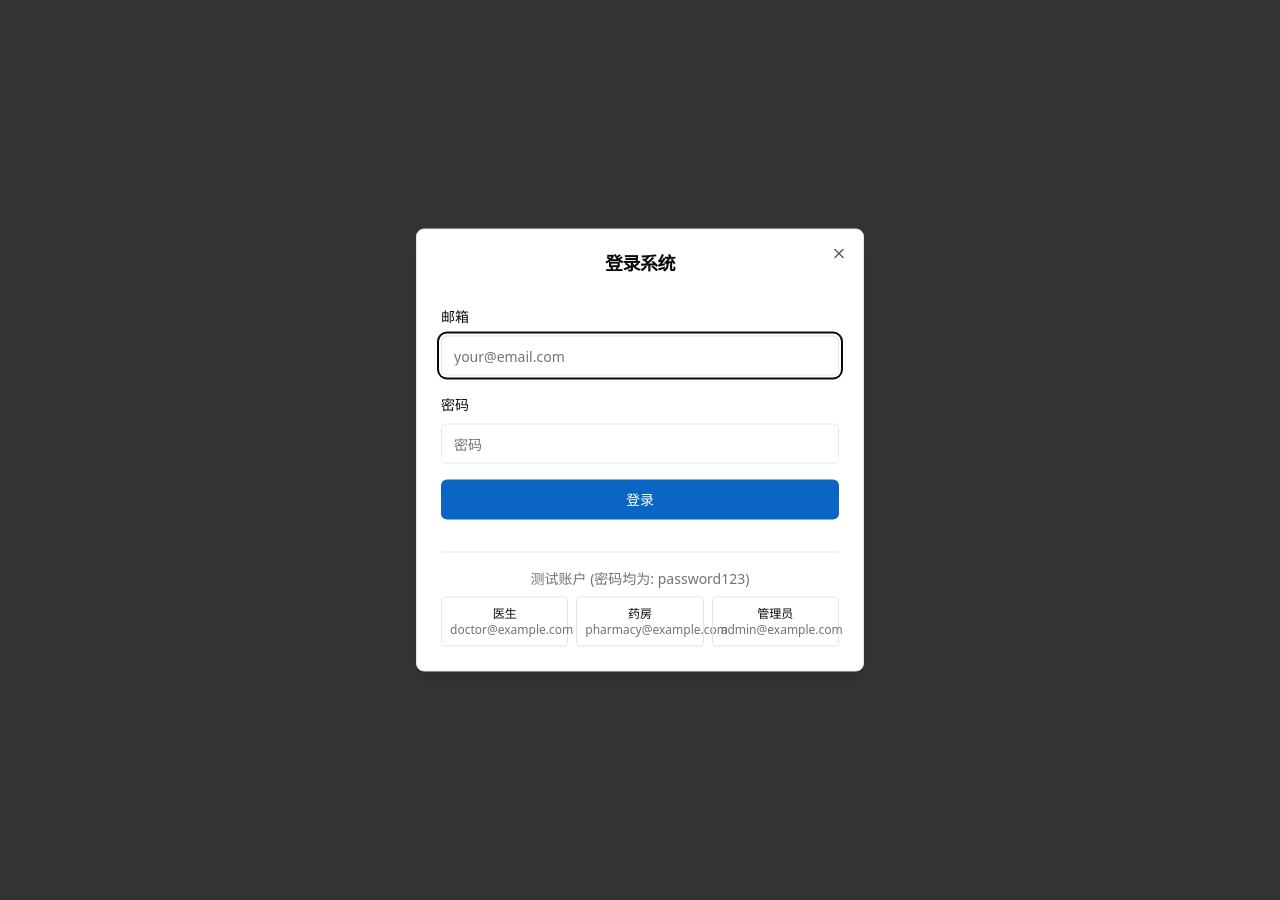
Scenario: LoginModal组件 › 表单验证 - 显示错误信息
The image size is (1280, 900).
Type "invalid-email" into the field labelled "邮箱" at (640, 356), box [441,336,839,376]
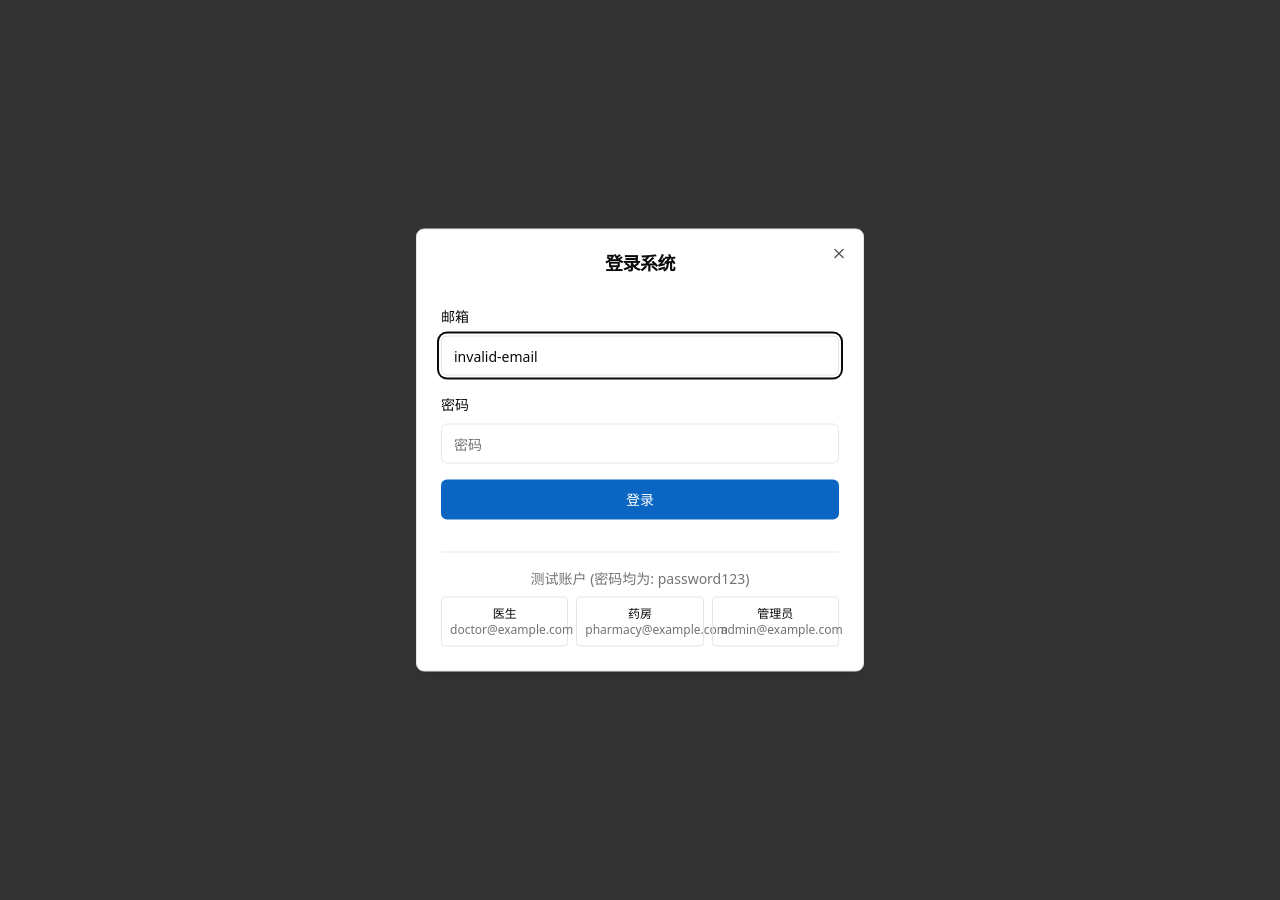
Note:  输入太短的密码
Type "123" into the password field labelled "密码" at (640, 444), box [441,424,839,464]
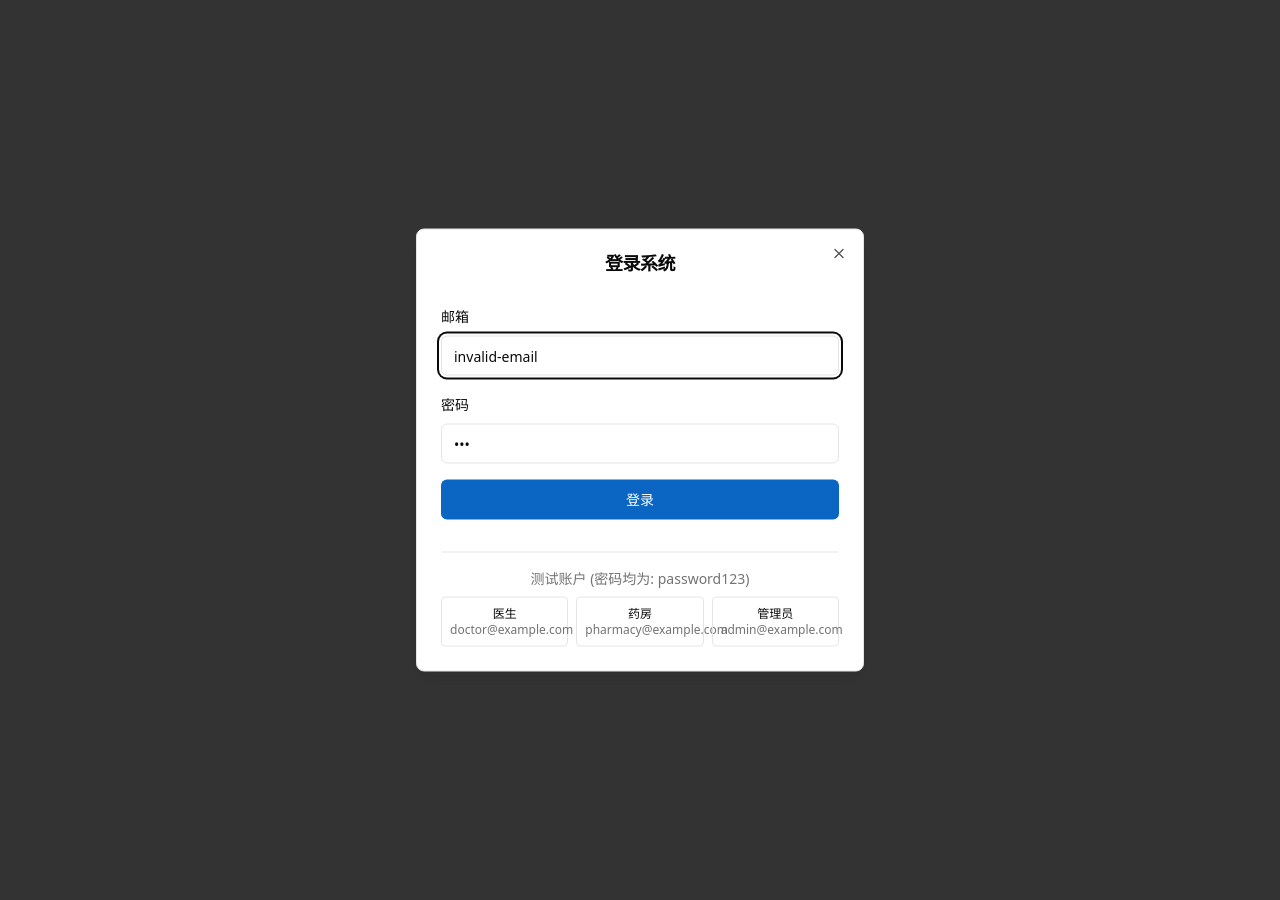
Click the button "登录" at (640, 500), box [441,480,839,520]
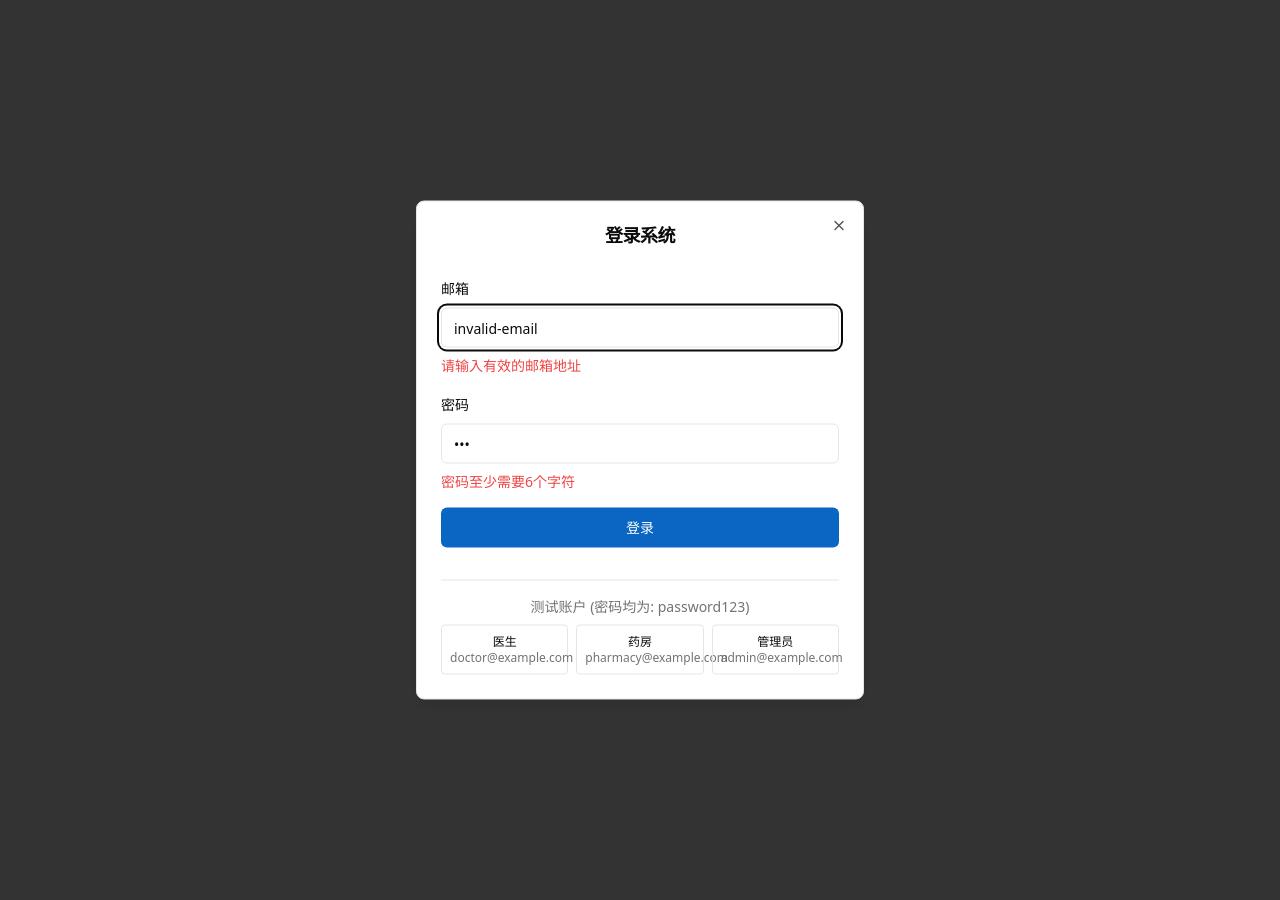
Check: the text "请输入有效的邮箱地址" is shown, box [441,356,581,374]
Check: the text "密码至少需要6个字符" is shown, box [441,472,575,490]
